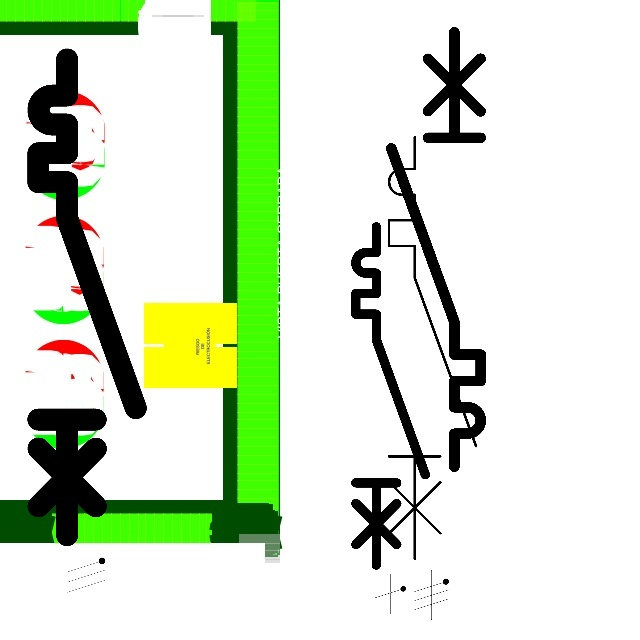interruptor_termomagnetico: (26, 47, 148, 547), (380, 21, 492, 478), (378, 126, 486, 570), (347, 218, 434, 574)
